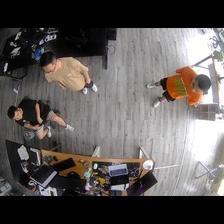normal: (145, 65, 211, 106), (8, 99, 73, 140), (39, 51, 97, 94)
